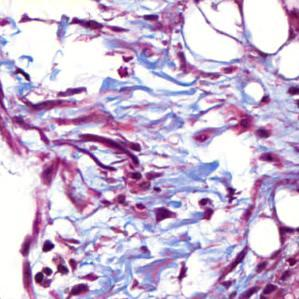steatosis: (246, 210, 283, 262)
